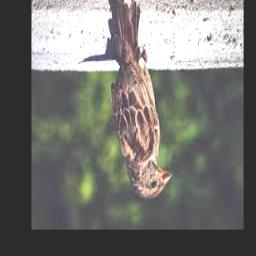Sparrow: (110, 0, 171, 200)
